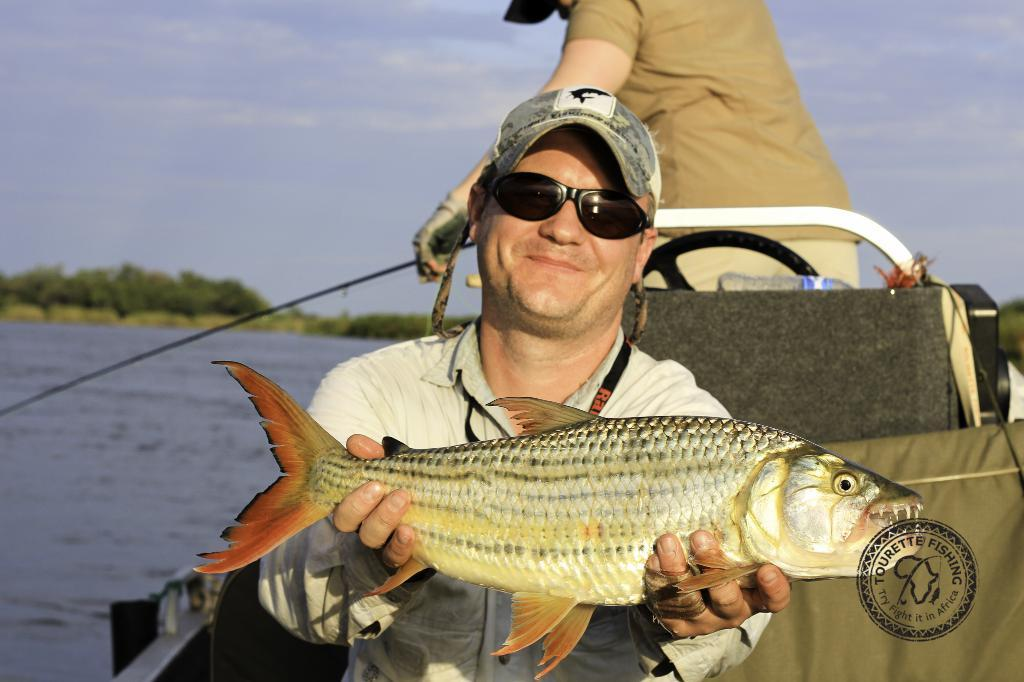Hat: (482, 82, 654, 198), (502, 0, 554, 27)
